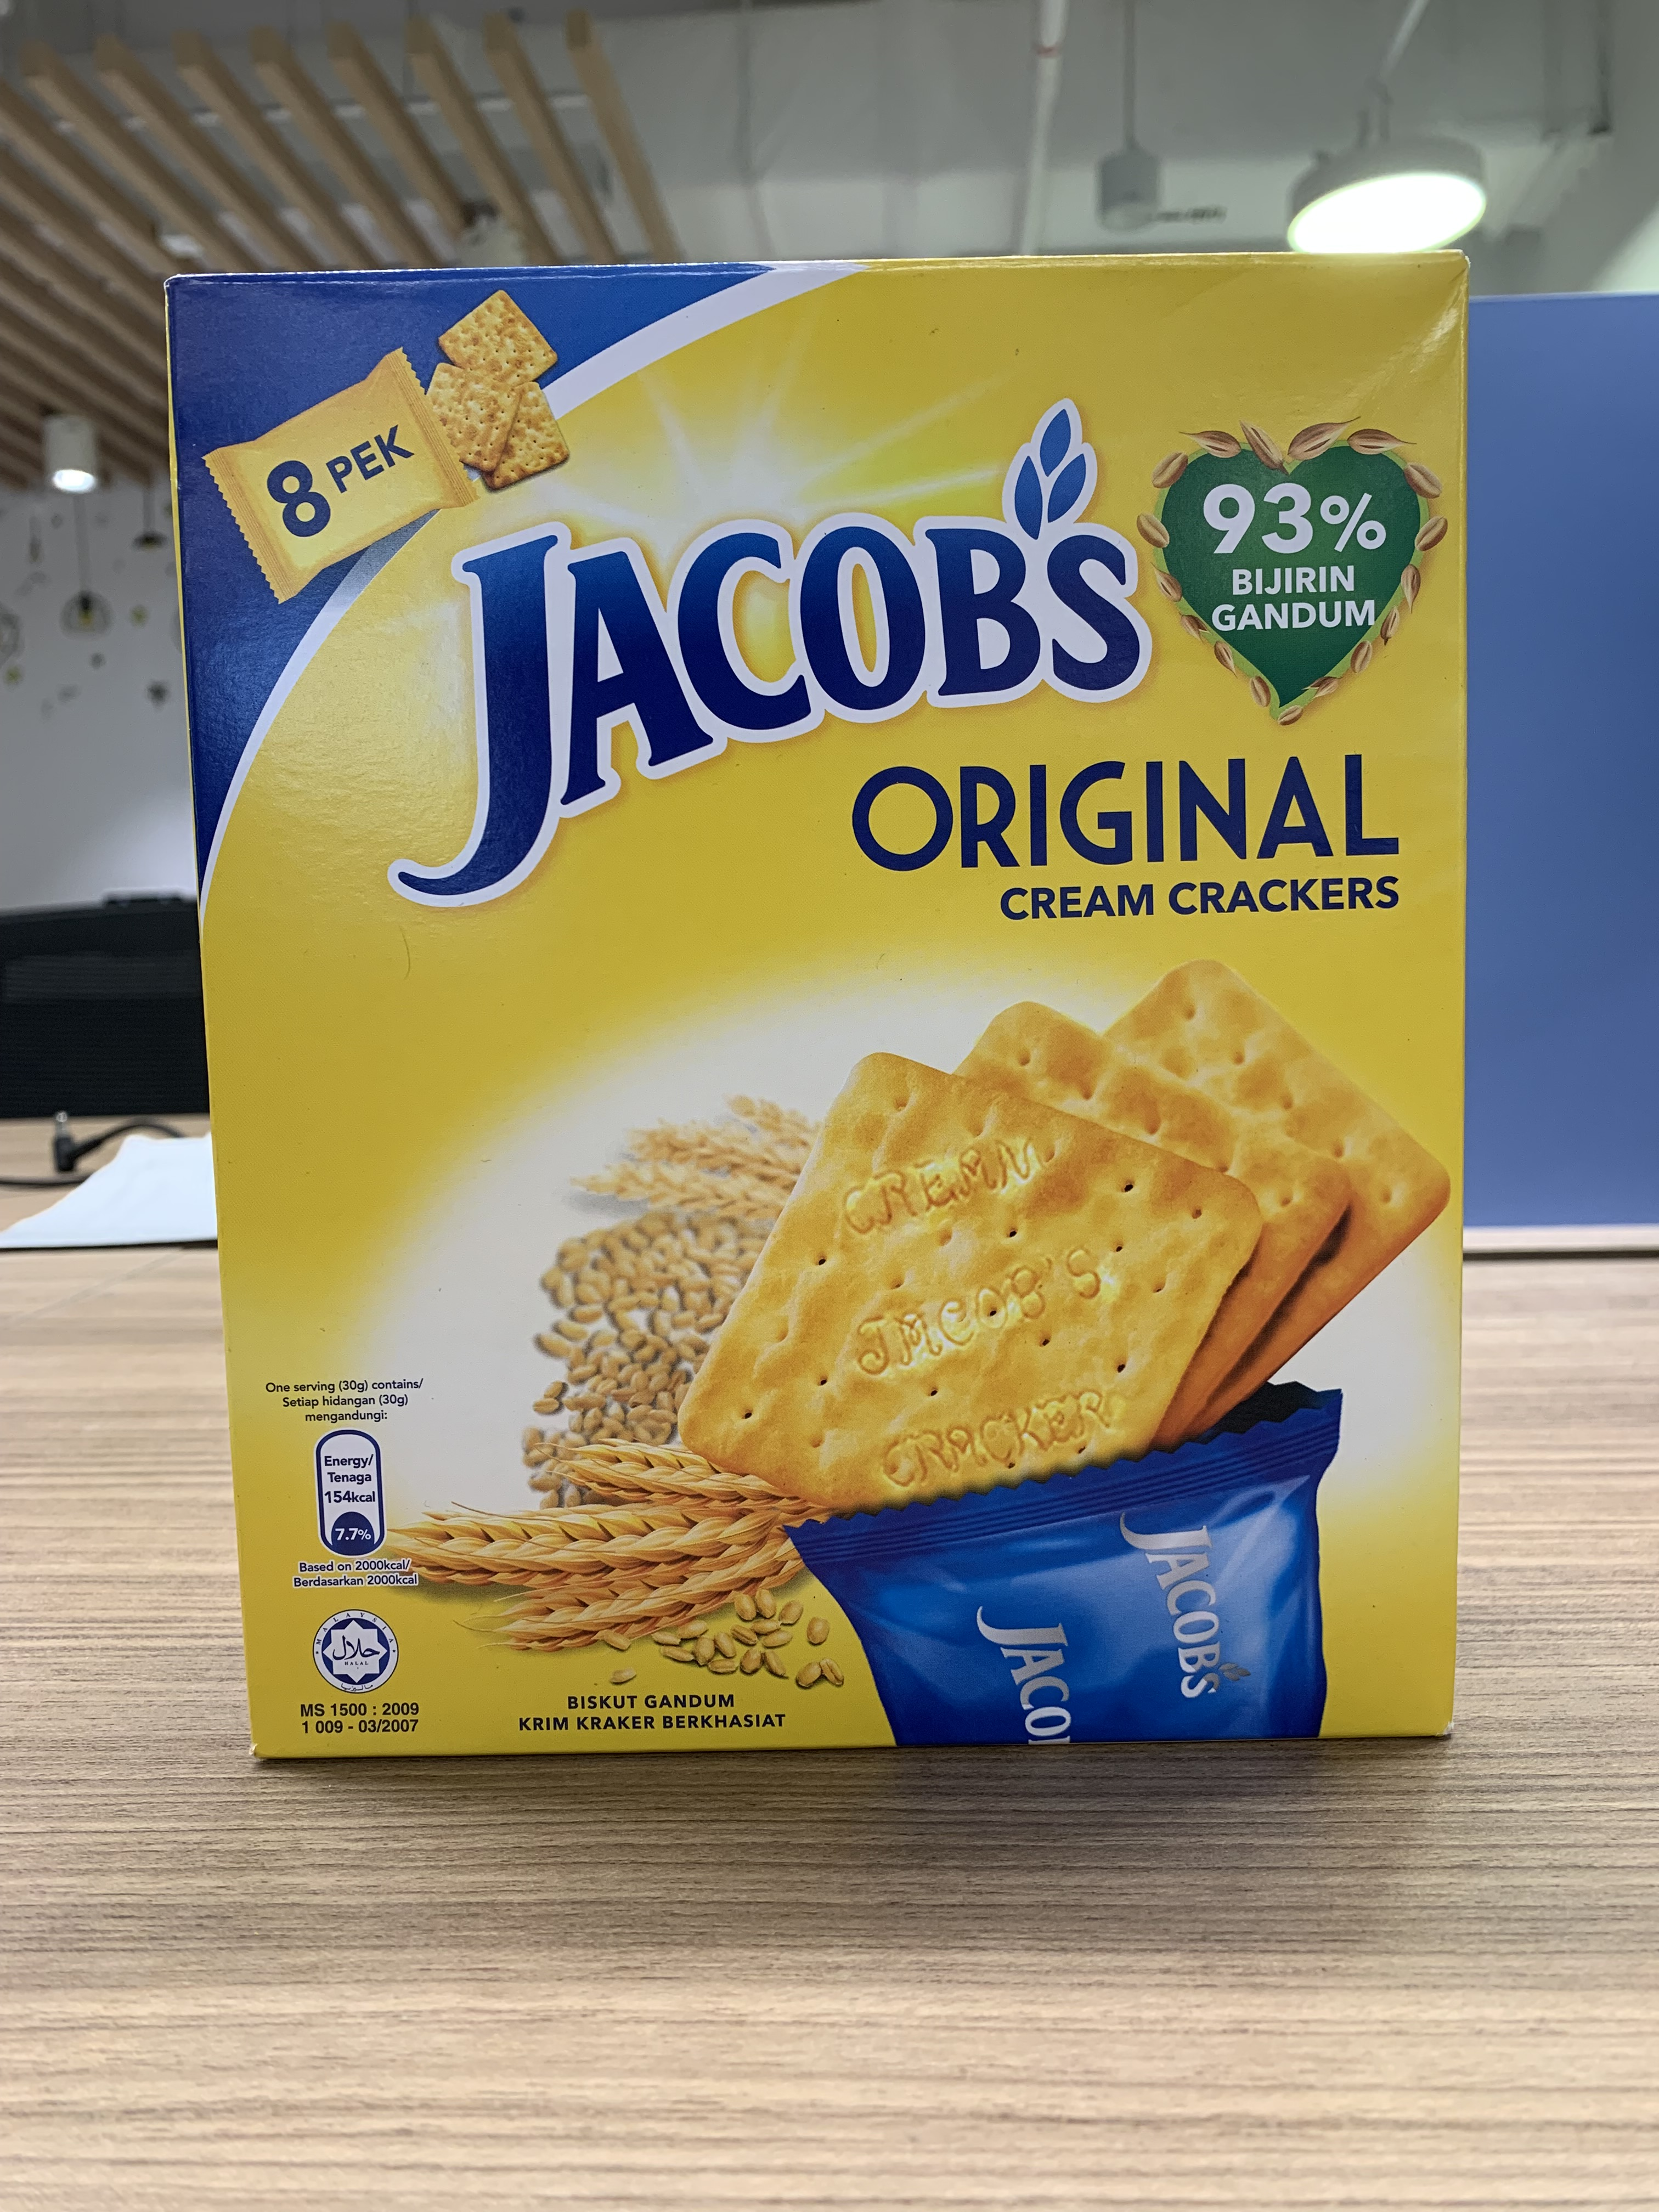crackers_200g-299g: (242, 291, 1445, 1747)
